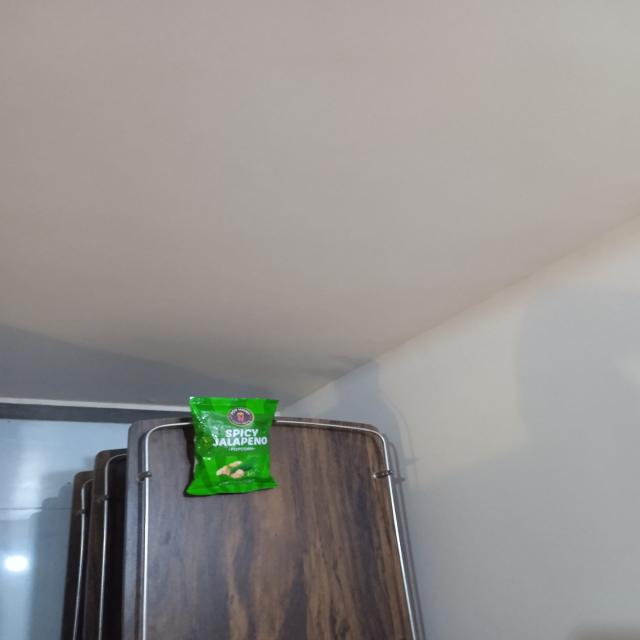Plastic: (182, 386, 284, 498)
